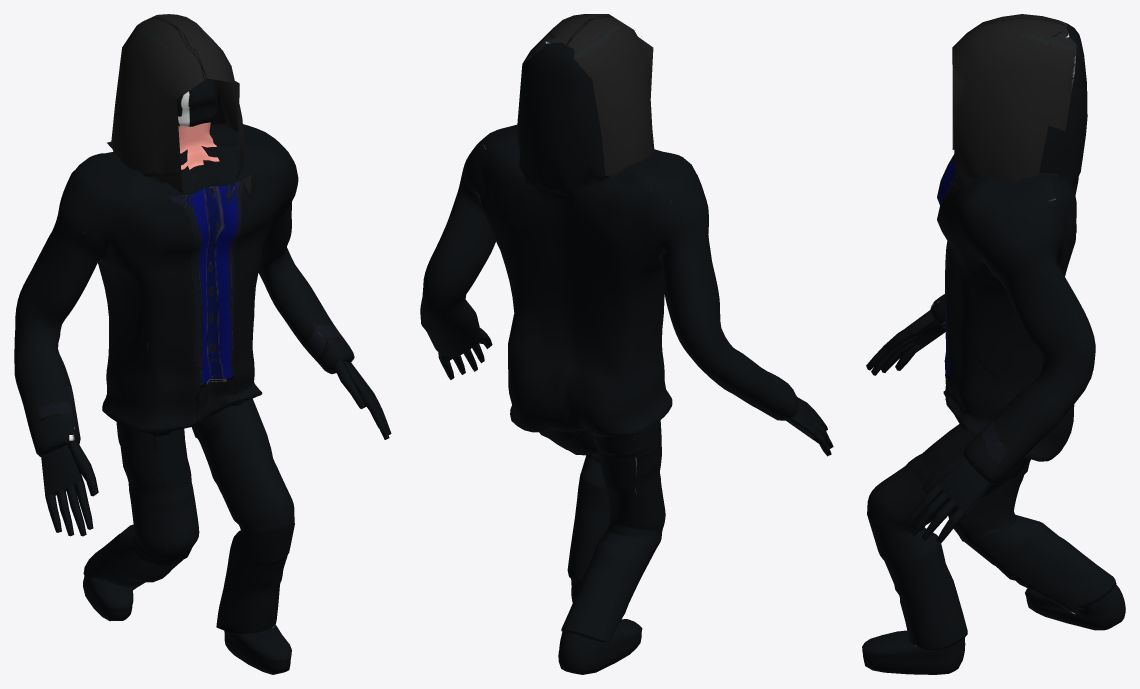
The model's file is keyFrame02.obj.
The picture shows the model from 3 angles, left to right: view 1: azimuth 30°, elevation 25°; view 2: azimuth 150°, elevation 25°; view 3: azimuth 270°, elevation 25°; orthographic projection. The views are drawn at different scales.
Parts seen in each view (by area): view 1: pasted__polySurface71 group4; view 2: pasted__polySurface71 group4; view 3: pasted__polySurface71 group4.
Boxes of the visible parts, x1,y1,x2,y2 form: pasted__polySurface71 group4: (14,14,391,674); pasted__polySurface71 group4: (420,14,833,674); pasted__polySurface71 group4: (862,14,1125,674).
Bounding box in the file's own units: 7.42 × 12.19 × 4.6.
